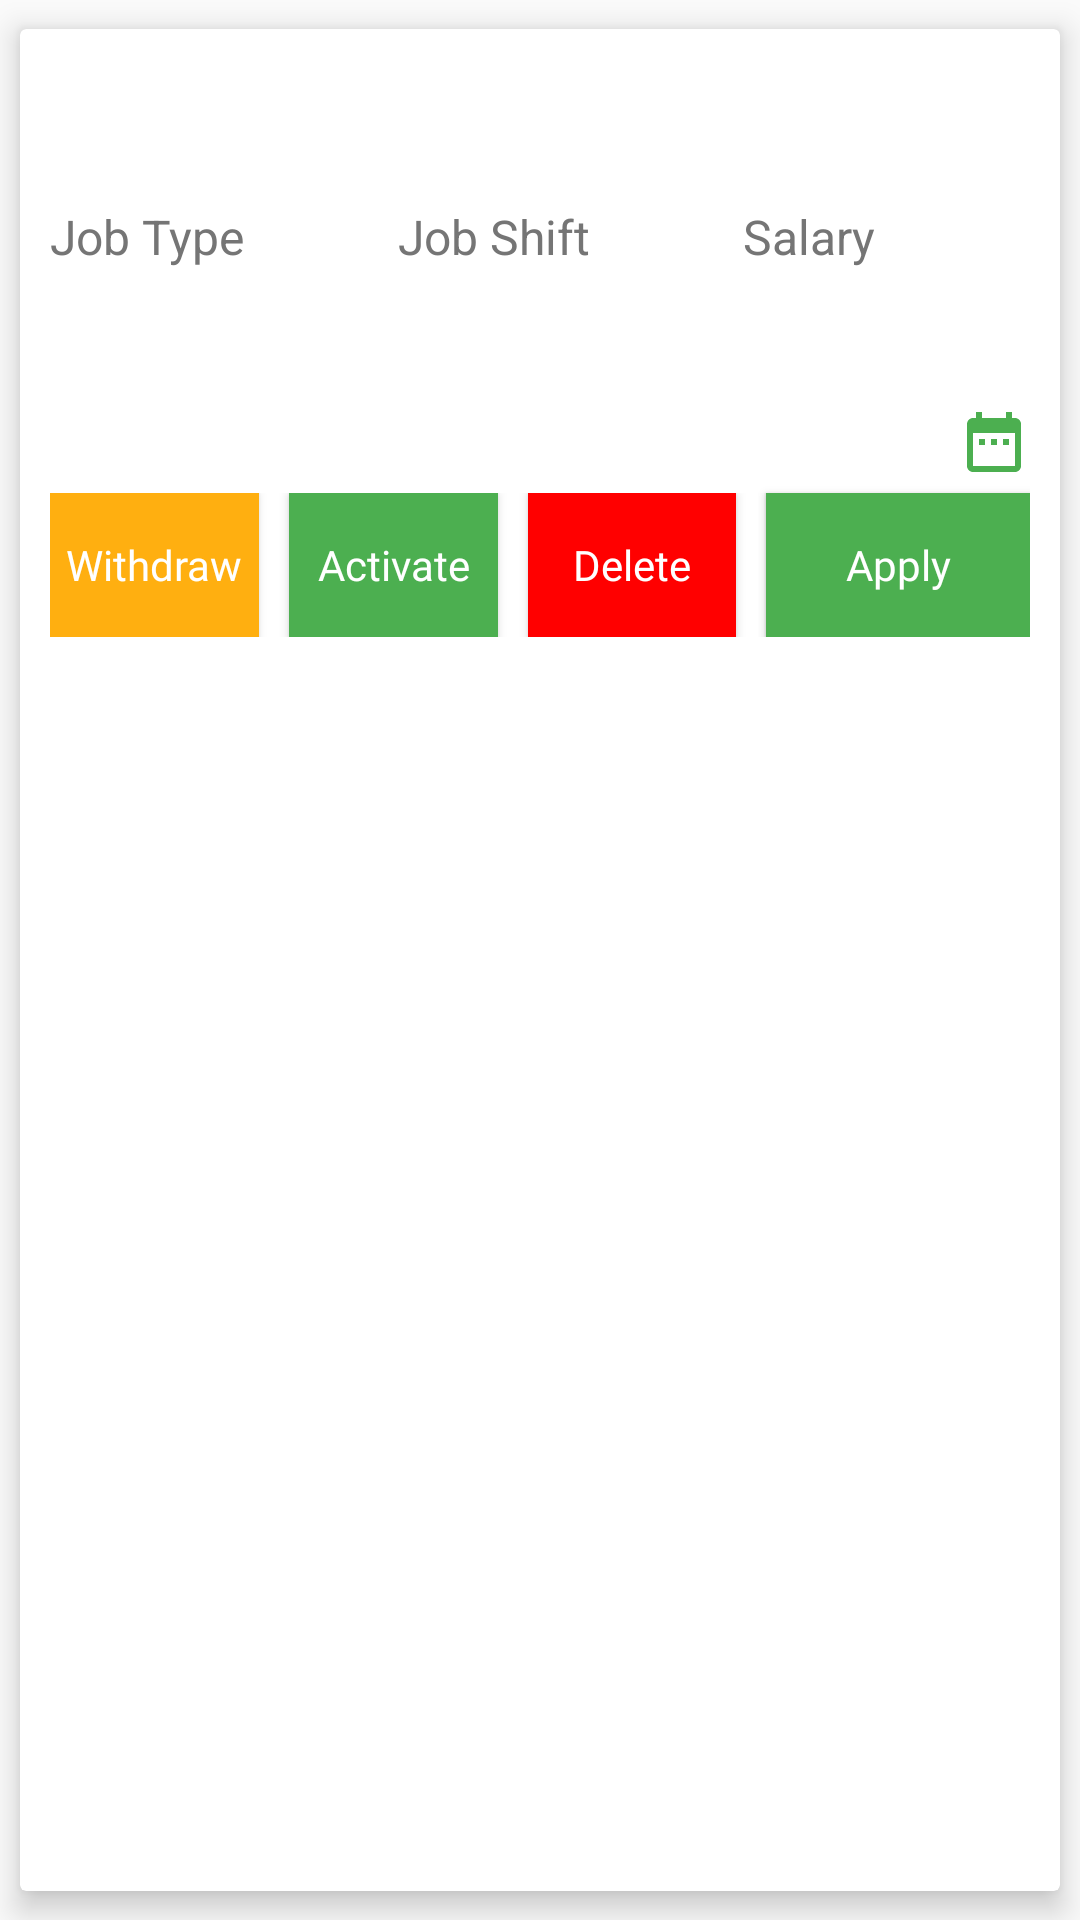

Icon bounding boxes for this 1080px x 1920px phone screenshot, format (x1, y1, x2, y2):
calender: (967, 412, 1021, 472)
